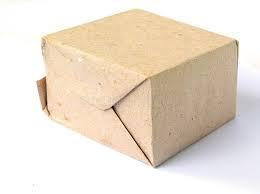cardboard: (35, 8, 238, 165)
